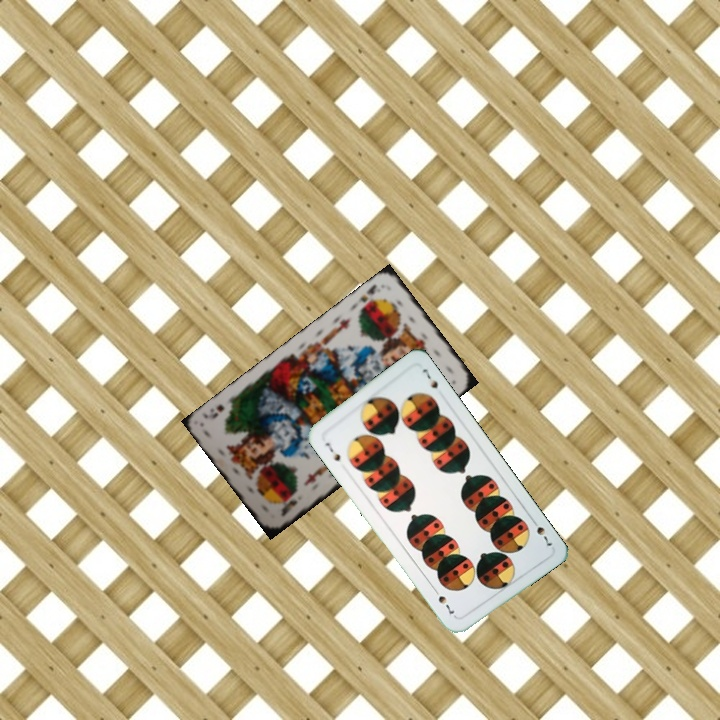S7: (527, 514, 555, 549), (321, 438, 343, 466)
SK: (350, 280, 379, 314), (277, 496, 300, 519)
